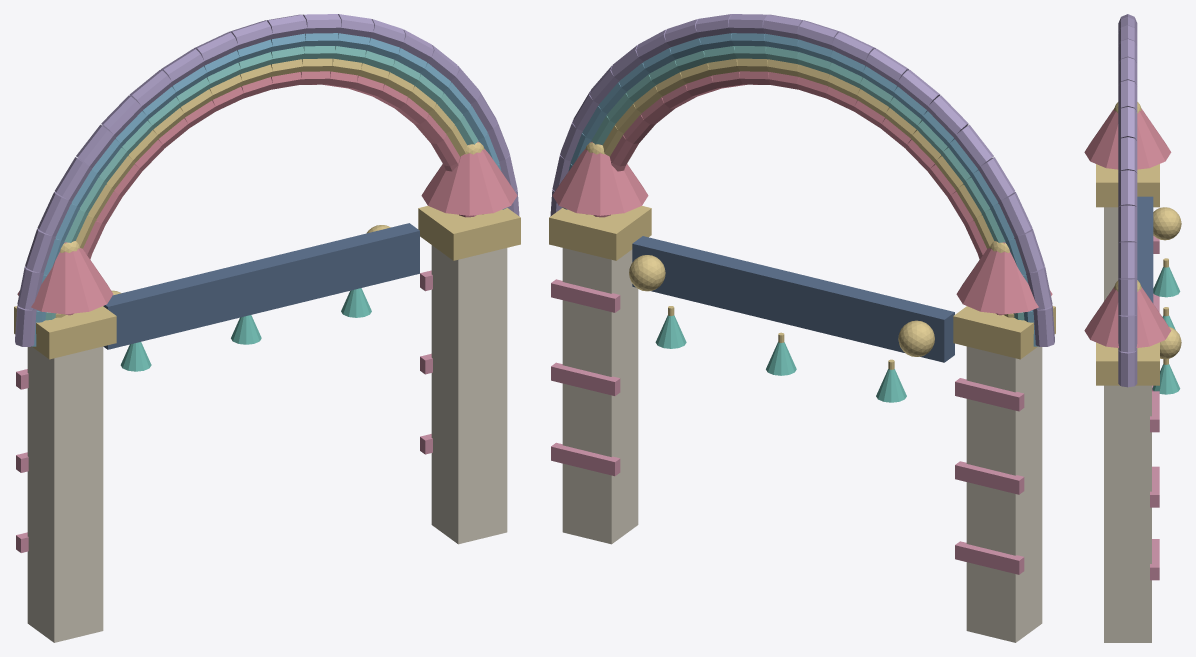
Rendered from festival_gate.glb.
The picture shows the model from 3 angles, left to right: view 1: azimuth 30°, elevation 25°; view 2: azimuth 150°, elevation 25°; view 3: azimuth 270°, elevation 25°; orthographic projection. The views are drawn at different scales.
Parts seen in each view (by area): view 1: festival_gate; view 2: festival_gate; view 3: festival_gate.
Boxes of the visible parts, bbox=[...] form: festival_gate: bbox=[14, 14, 520, 642]; festival_gate: bbox=[549, 14, 1055, 642]; festival_gate: bbox=[1084, 14, 1181, 642].
Size of the model in its own units: 8.22 by 8.7 by 1.52.
